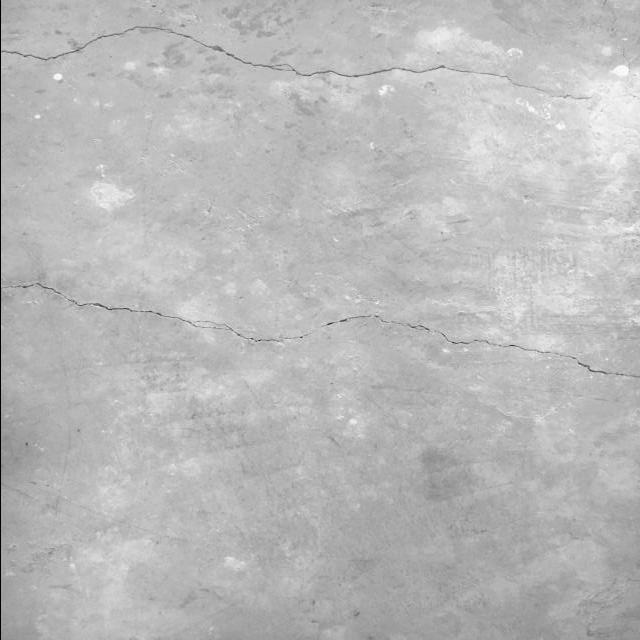SurfaceCrack: (1, 0, 639, 139)
